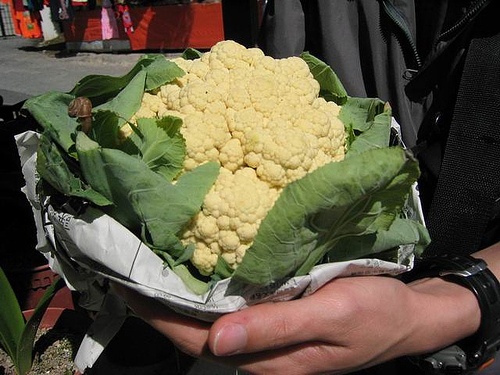cauliflower: (103, 37, 378, 290)
